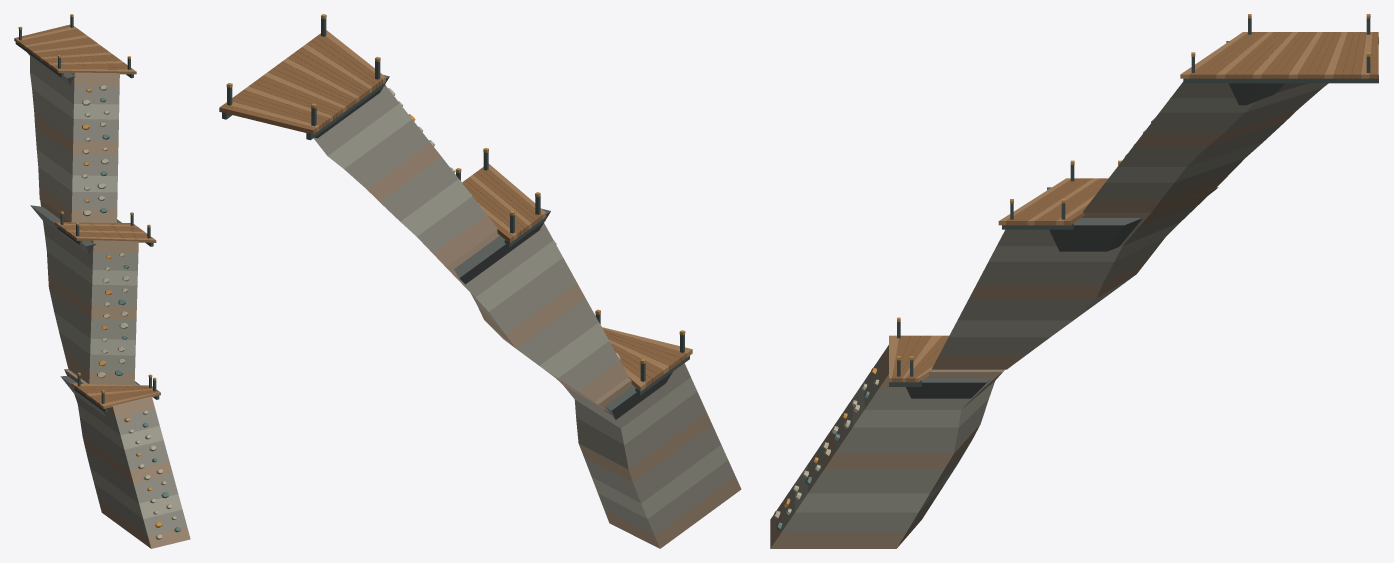
File: w8b-rock-three-pitches.glb
The picture shows the model from 3 angles, left to right: view 1: azimuth 30°, elevation 25°; view 2: azimuth 150°, elevation 25°; view 3: azimuth 270°, elevation 25°; orthographic projection. The views are drawn at different scales.
Parts seen in each view (by area): view 1: Pitch 3 | planar schist and embedded backing, Pitch 2 | planar schist and embedded backing, Pitch 1 | planar schist and embedded backing, South route | two cedar rest ledges and summit sill, Pitch 3 | 22 climb grips, Pitch 2 | 22 climb grips, Pitch 1 | 22 climb grips; view 2: South route | two cedar rest ledges and summit sill, Pitch 1 | planar schist and embedded backing, Pitch 2 | planar schist and embedded backing, Pitch 3 | planar schist and embedded backing; view 3: Pitch 1 | planar schist and embedded backing, South route | two cedar rest ledges and summit sill, Pitch 2 | planar schist and embedded backing, Pitch 3 | planar schist and embedded backing, Pitch 1 | 22 climb grips.
Part boxes in pixels (x1=…): Pitch 3 | planar schist and embedded backing: x1=30, y1=56, x2=119, y2=222; Pitch 2 | planar schist and embedded backing: x1=40, y1=200, x2=138, y2=385; Pitch 1 | planar schist and embedded backing: x1=64, y1=369, x2=190, y2=548; South route | two cedar rest ledges and summit sill: x1=14, y1=14, x2=160, y2=416; Pitch 3 | 22 climb grips: x1=81, y1=85, x2=109, y2=216; Pitch 2 | 22 climb grips: x1=97, y1=253, x2=129, y2=378; Pitch 1 | 22 climb grips: x1=124, y1=410, x2=180, y2=539; South route | two cedar rest ledges and summit sill: x1=219, y1=14, x2=692, y2=419; Pitch 1 | planar schist and embedded backing: x1=556, y1=363, x2=741, y2=548; Pitch 2 | planar schist and embedded backing: x1=446, y1=223, x2=628, y2=401; Pitch 3 | planar schist and embedded backing: x1=313, y1=85, x2=497, y2=266; Pitch 1 | planar schist and embedded backing: x1=770, y1=344, x2=1004, y2=548; South route | two cedar rest ledges and summit sill: x1=889, y1=14, x2=1378, y2=398; Pitch 2 | planar schist and embedded backing: x1=932, y1=188, x2=1215, y2=369; Pitch 3 | planar schist and embedded backing: x1=1083, y1=82, x2=1328, y2=212; Pitch 1 | 22 climb grips: x1=773, y1=368, x2=879, y2=530.
Bounding box in the file's own units: 6.14 × 16.55 × 16.52.
